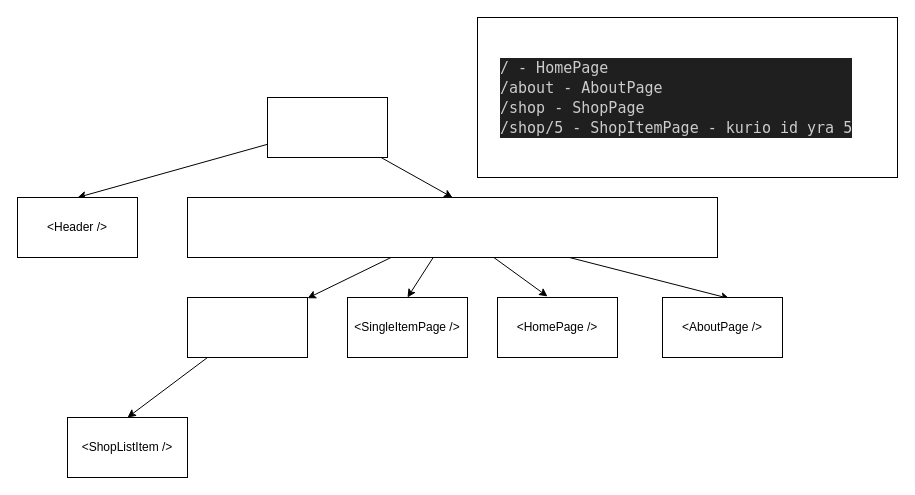
Image size: 915x495. Some labels were removed from this diagram. Each missing label, with the centre of its shape:
<App />: (x=327, y=127)
<Routes />: (x=452, y=227)
<ShopPage />: (x=247, y=327)
